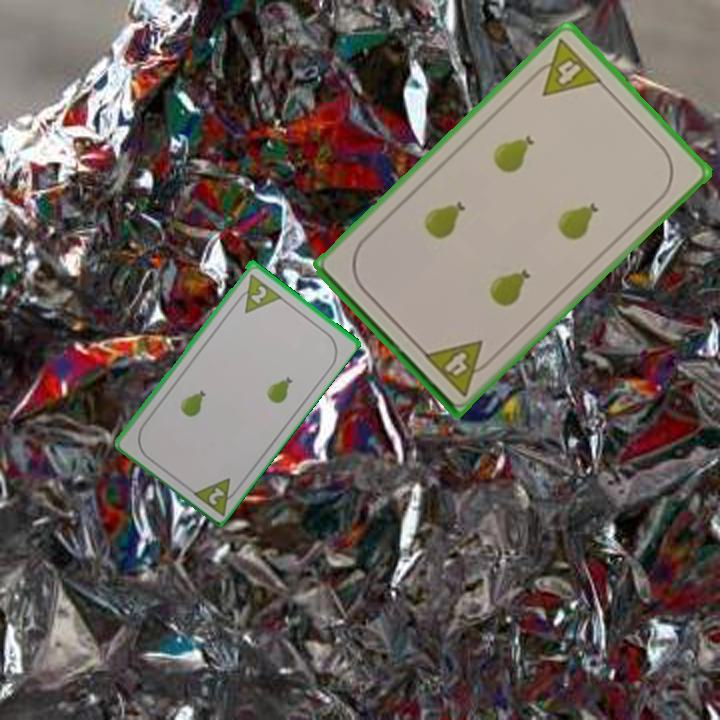2p: (187, 473, 244, 518), (231, 270, 283, 316)
4p: (524, 34, 605, 99), (419, 336, 498, 399)
